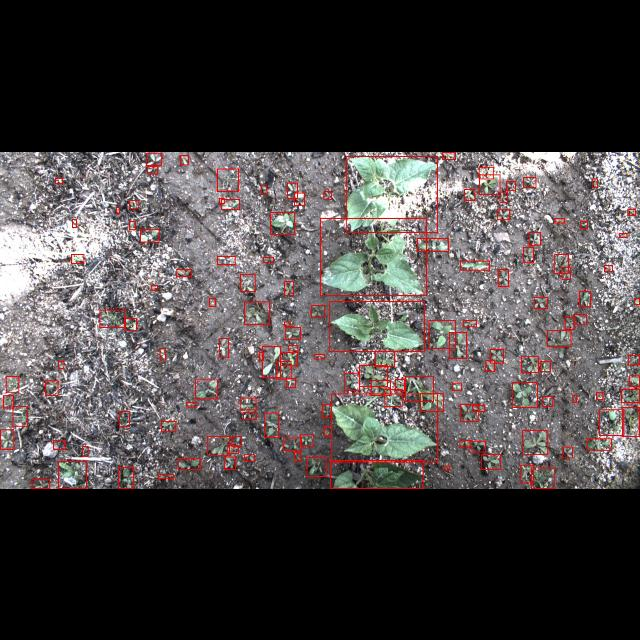crop: (320, 217, 426, 295), (332, 394, 438, 462), (347, 155, 438, 231), (330, 301, 424, 351), (331, 460, 423, 488)
weed: (58, 462, 86, 488), (429, 320, 455, 348), (405, 376, 433, 402), (522, 430, 548, 454), (512, 382, 538, 406), (244, 300, 270, 324), (600, 409, 624, 435), (359, 364, 387, 386), (262, 345, 280, 377), (271, 211, 295, 233), (622, 408, 640, 437), (217, 168, 239, 190), (449, 332, 466, 358), (532, 468, 554, 488), (100, 309, 124, 327), (420, 393, 444, 411), (195, 379, 217, 398), (480, 174, 500, 194), (208, 436, 230, 454), (547, 330, 571, 346), (306, 458, 326, 477), (264, 412, 278, 438), (418, 238, 448, 250), (384, 388, 402, 406), (460, 404, 478, 422), (118, 468, 134, 488), (12, 406, 28, 426), (460, 260, 490, 270), (240, 273, 256, 291), (344, 372, 360, 390), (586, 438, 612, 449), (0, 429, 14, 449), (375, 352, 395, 366), (371, 380, 391, 394), (482, 454, 501, 468), (522, 356, 538, 372), (277, 361, 291, 379), (280, 352, 298, 366), (554, 254, 568, 272), (520, 465, 534, 483), (621, 388, 639, 402), (178, 458, 200, 469), (140, 229, 160, 241), (283, 438, 301, 450), (5, 376, 18, 392), (44, 380, 58, 394), (490, 349, 504, 363), (285, 327, 301, 339), (240, 397, 256, 409), (146, 152, 162, 164), (498, 268, 508, 286), (222, 198, 240, 208), (311, 304, 325, 316), (534, 296, 548, 308), (300, 434, 314, 446), (479, 166, 493, 178), (32, 479, 50, 488), (160, 421, 176, 431), (580, 290, 590, 306), (523, 246, 533, 262), (287, 182, 297, 198), (470, 441, 484, 452), (220, 338, 228, 357), (464, 188, 476, 200), (224, 457, 236, 469), (217, 256, 235, 264), (119, 412, 129, 426), (284, 281, 294, 295), (322, 404, 332, 418), (125, 318, 136, 330), (176, 268, 192, 276), (53, 440, 65, 450), (3, 395, 13, 407), (628, 355, 640, 365), (564, 317, 574, 329), (574, 314, 586, 324), (530, 232, 540, 244), (498, 209, 510, 219), (294, 192, 304, 204), (524, 176, 536, 186), (562, 447, 572, 458), (395, 378, 405, 389), (231, 436, 241, 446), (286, 377, 296, 387), (540, 361, 550, 371), (506, 180, 516, 190), (542, 396, 552, 406), (630, 376, 640, 386), (72, 254, 84, 262), (562, 267, 570, 279), (442, 152, 456, 158), (324, 426, 332, 436), (452, 382, 462, 390), (500, 191, 508, 201), (180, 154, 188, 164), (228, 445, 238, 453), (486, 360, 494, 370), (464, 320, 476, 326), (244, 412, 256, 418), (472, 405, 484, 411), (148, 165, 158, 172), (460, 439, 470, 446), (160, 348, 166, 359), (158, 474, 174, 478), (580, 220, 588, 228), (130, 200, 138, 208), (324, 190, 332, 198), (244, 455, 254, 461), (294, 452, 300, 462), (82, 446, 88, 456), (263, 256, 273, 262), (129, 220, 135, 230), (261, 184, 267, 193), (58, 360, 64, 368), (209, 298, 215, 306), (605, 265, 613, 271), (592, 178, 598, 186), (555, 218, 565, 222), (288, 346, 298, 350), (314, 354, 324, 358), (187, 402, 196, 406), (284, 320, 290, 326), (634, 298, 640, 304), (628, 208, 634, 214), (597, 392, 603, 398), (259, 352, 263, 360), (619, 233, 627, 237), (72, 219, 76, 227), (444, 466, 450, 470), (152, 284, 156, 290), (116, 207, 120, 213), (56, 178, 62, 182), (573, 396, 577, 402), (220, 198, 224, 202)
